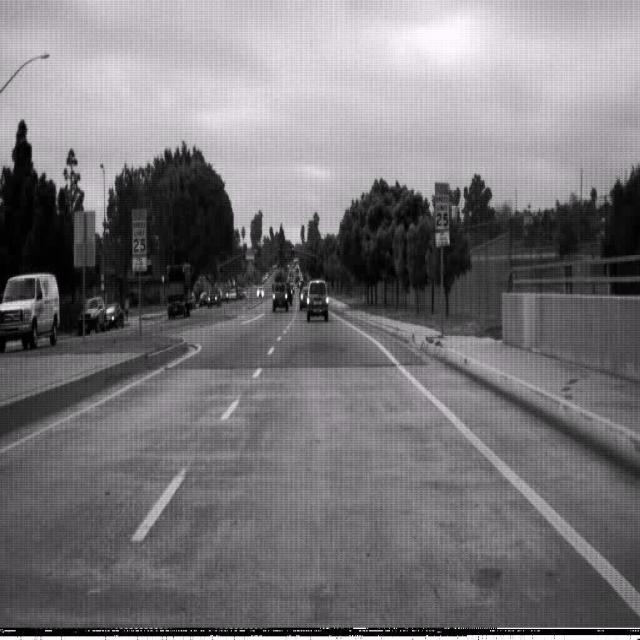speedLimit25: (130, 208, 148, 274), (434, 182, 450, 246)
